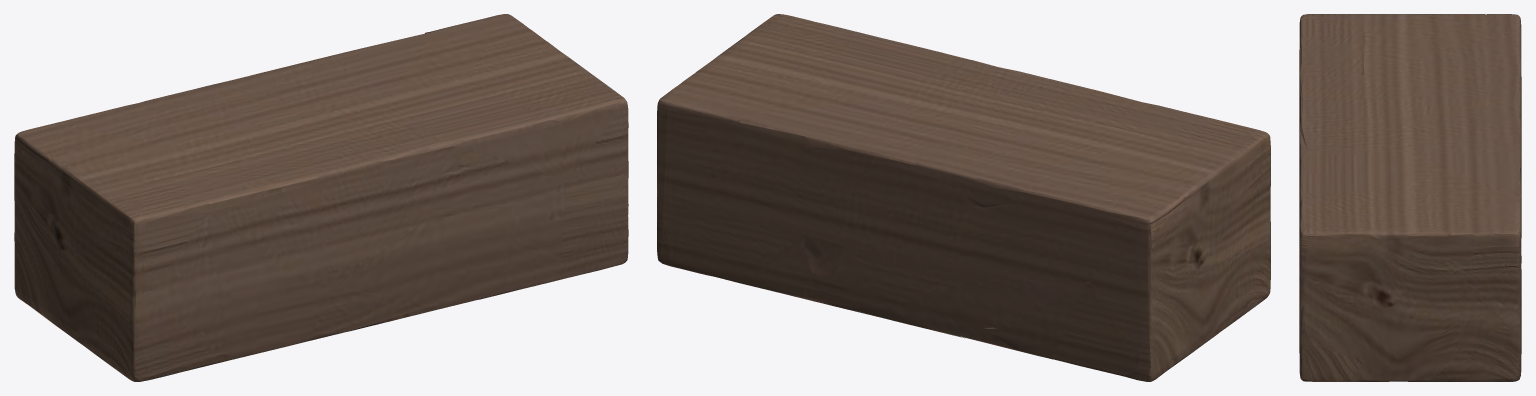
File: block_cracked.glb
3 renders of one model, left to right at view 1: azimuth 30°, elevation 25°; view 2: azimuth 150°, elevation 25°; view 3: azimuth 270°, elevation 25°, orthographic. The views are drawn at different scales.
Size of the model in its own units: 1.9 by 0.6046 by 0.8098.
Materials: 1 (1 with a texture image).
